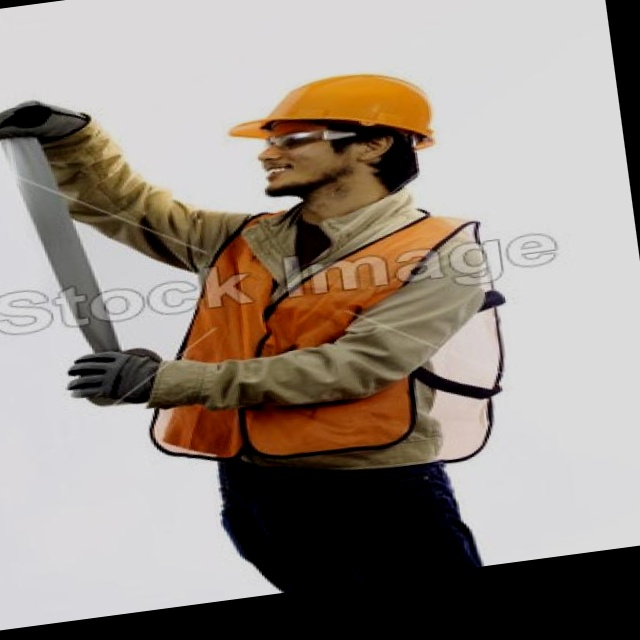Con_Casco: (222, 65, 443, 208)
